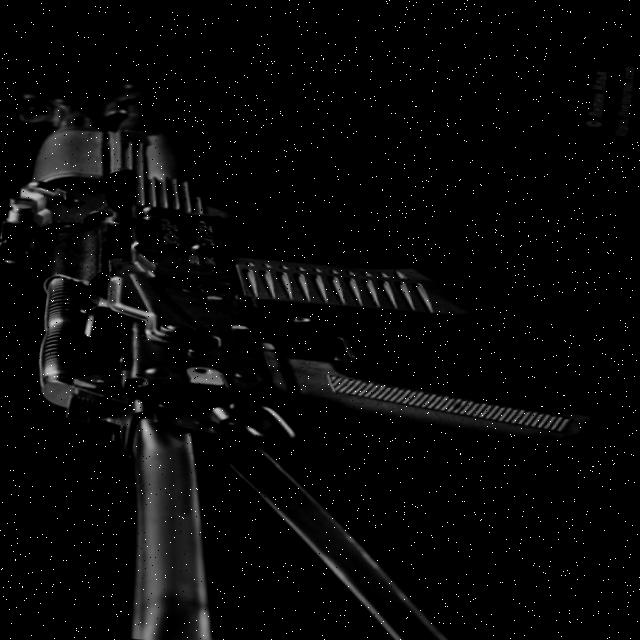firearm: (0, 58, 625, 640)
